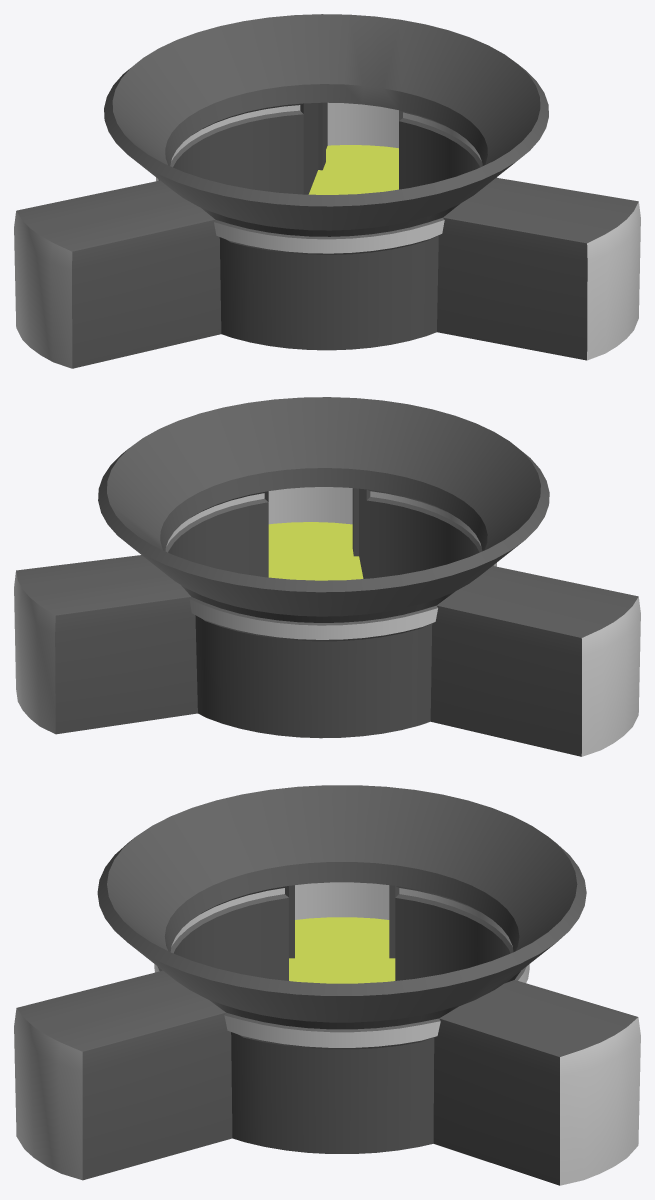
Rendered from StartingRoom.fbx.
3 renders of one model, top to bottom at view 1: azimuth 30°, elevation 25°; view 2: azimuth 150°, elevation 25°; view 3: azimuth 270°, elevation 25°, orthographic. The views are drawn at different scales.
Parts seen in each view (by area): view 1: Cylinder.001; view 2: Cylinder.001; view 3: Cylinder.001.
Part boxes in pixels (box(x1,y1,x2,y2)): Cylinder.001: box(14, 14, 640, 368); Cylinder.001: box(14, 397, 640, 756); Cylinder.001: box(14, 785, 640, 1185).
Bounding box in the file's own units: 5537 × 1880 × 5473.
